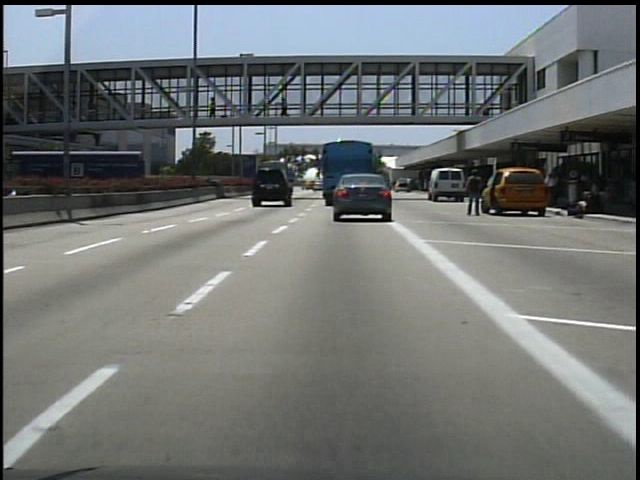person: (463, 164, 487, 221), (206, 93, 222, 120), (278, 95, 294, 121)
